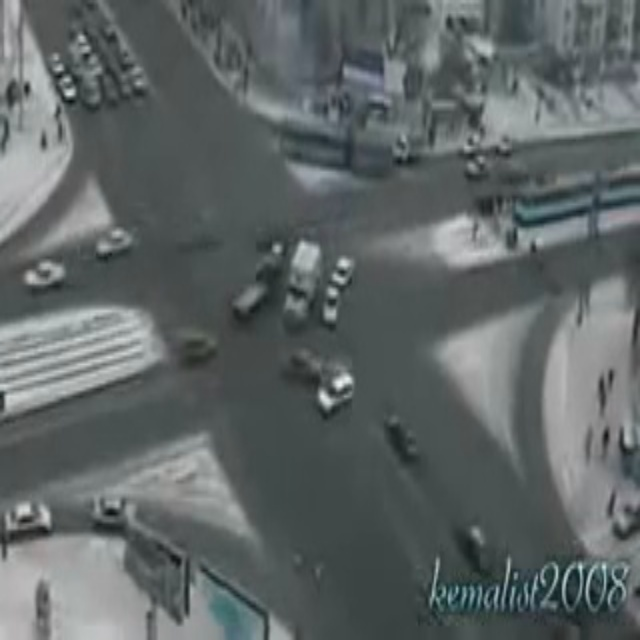acc: (275, 343, 369, 422)
